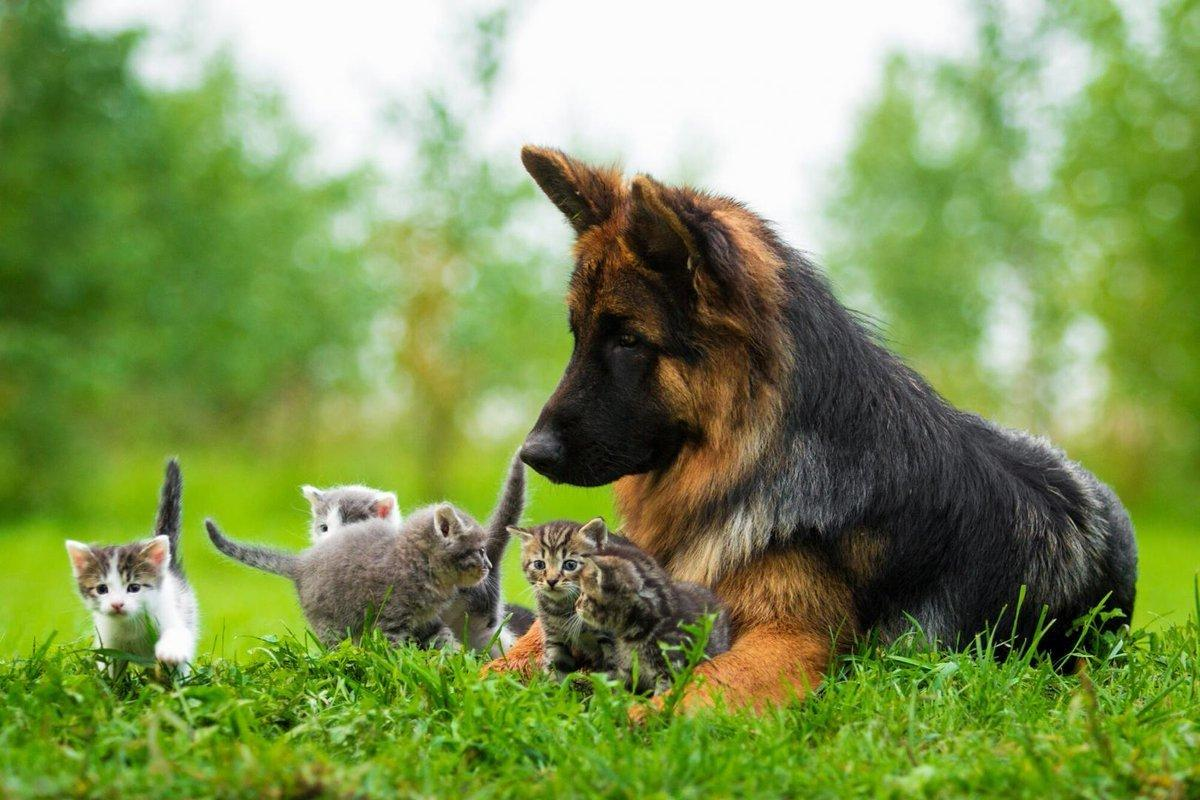animals: (516, 131, 1005, 548), (203, 500, 501, 696), (45, 448, 239, 719), (519, 512, 616, 607)
